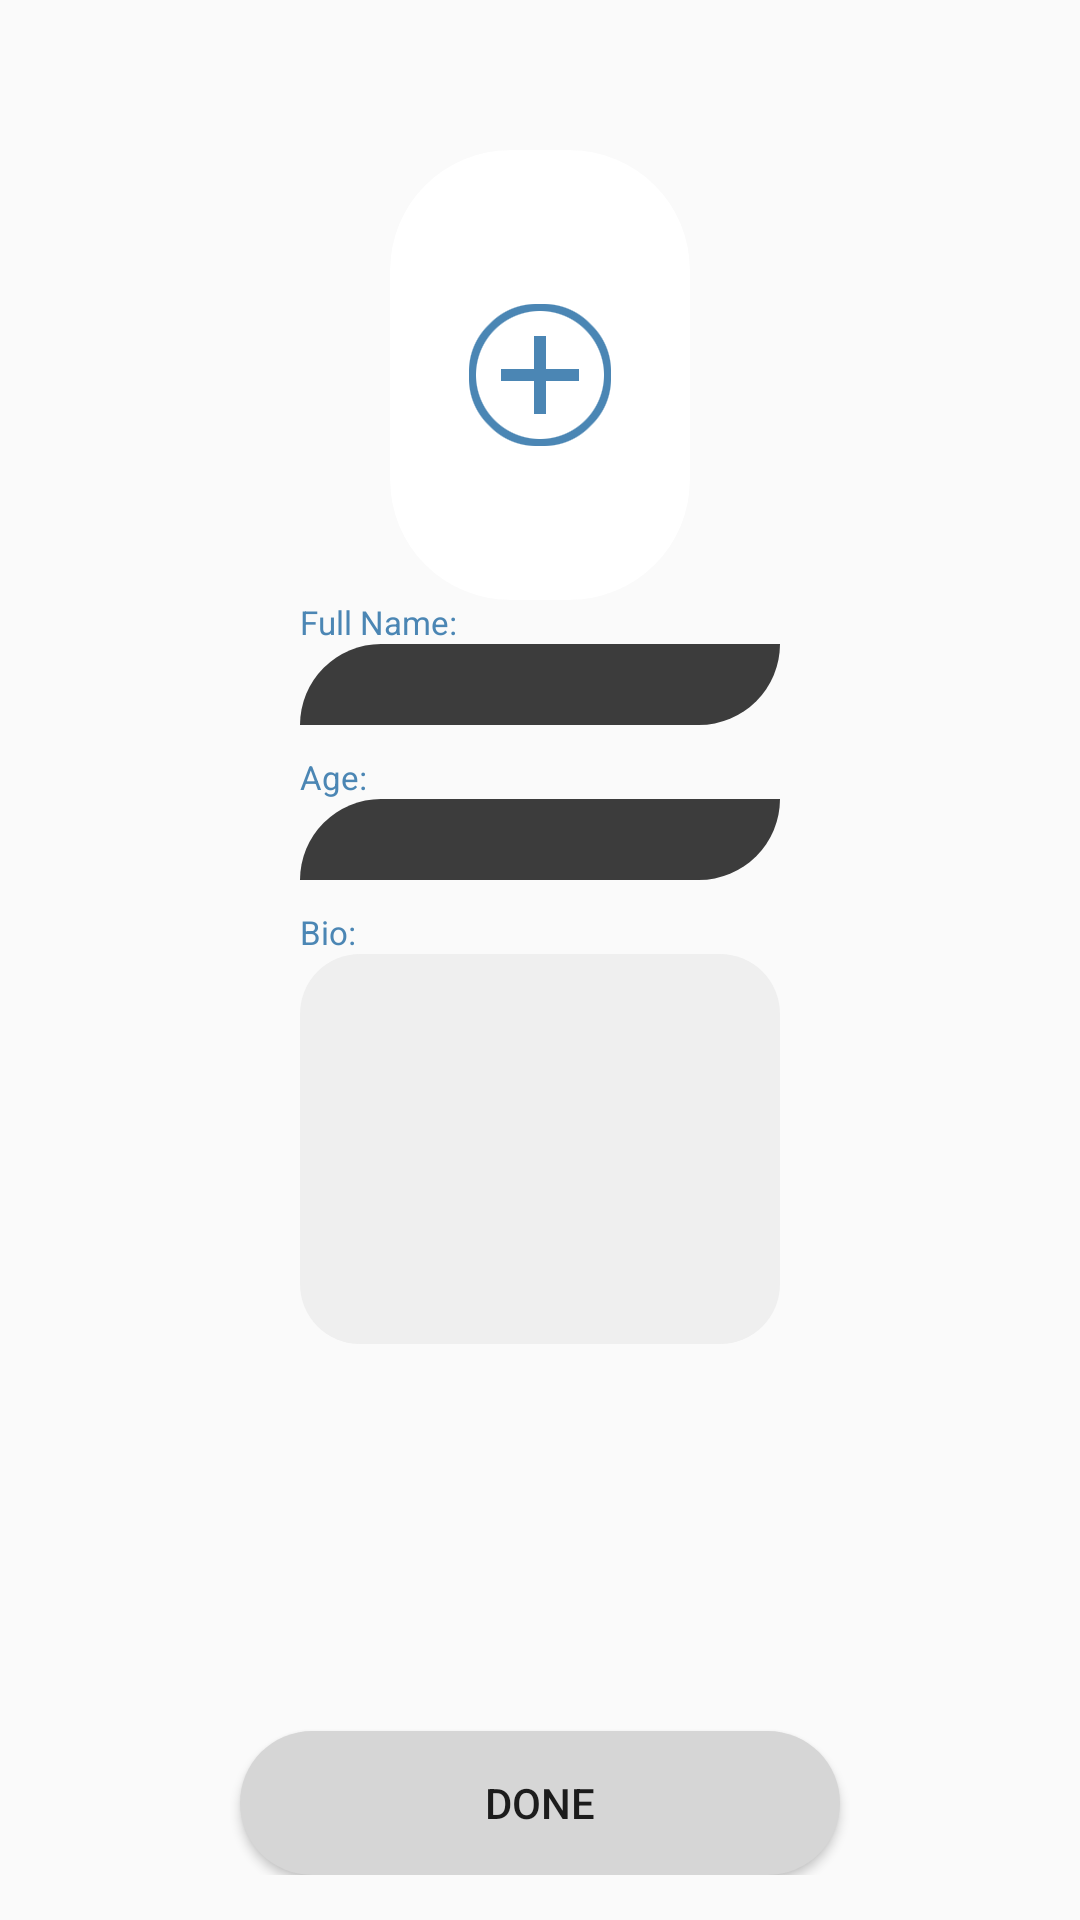

Where to tap for icons on this 1080*1920 app screen, as (x=x, y=y):
addimage: (x=540, y=375)
